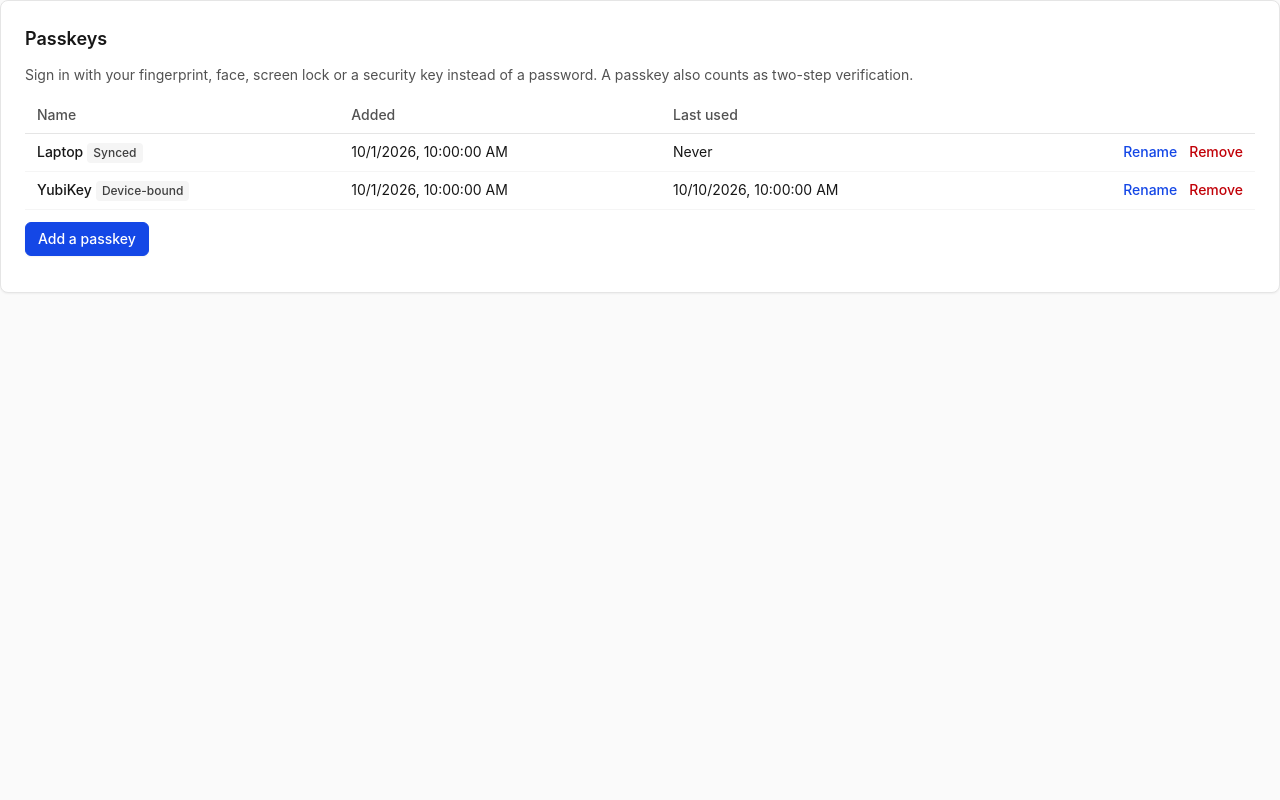
Scenario: PasskeysSection › adds a passkey: re-auth, then a create click with an optional name
The width and height of the screenshot is (1280, 800).
Click the button "Add a passkey". click: (87, 239)
box: top-left (25, 222), bottom-right (149, 256)
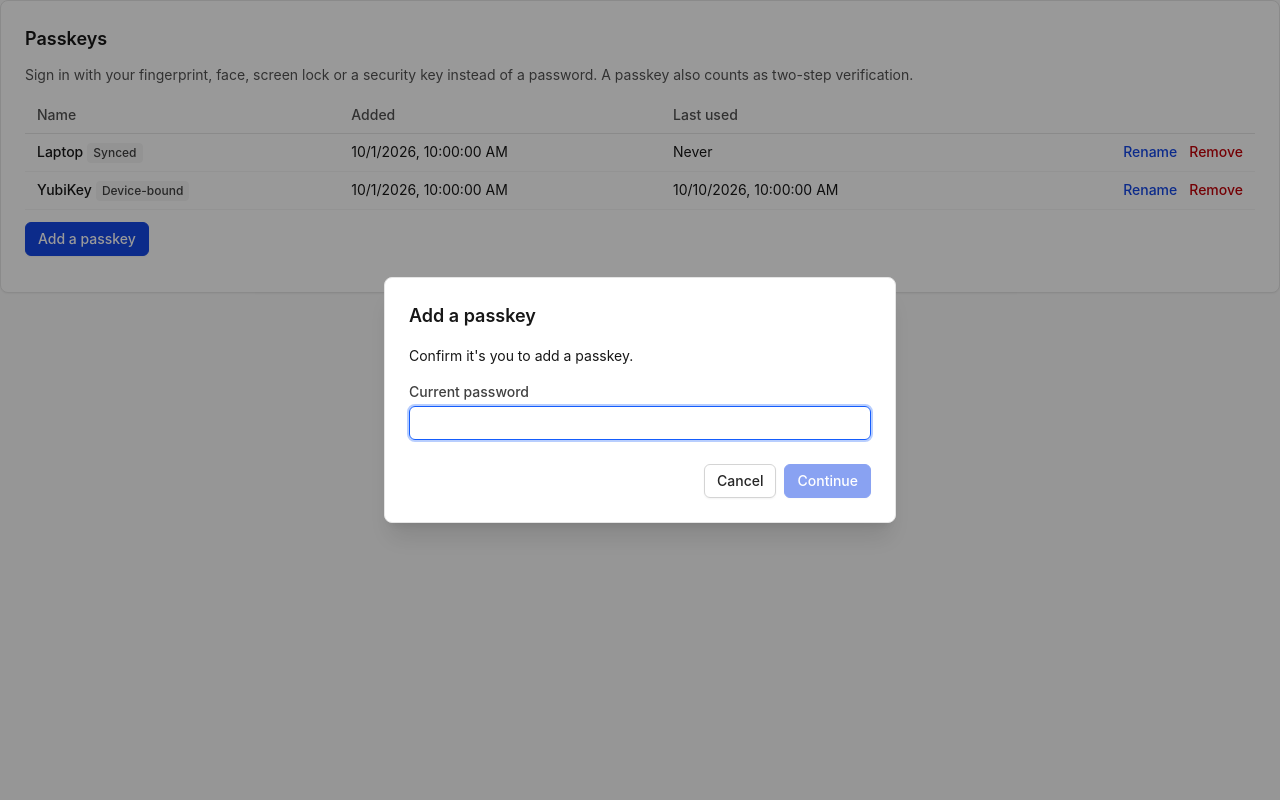
Type "pw" into the password field labelled "Current password". click: (640, 423)
box: top-left (409, 406), bottom-right (871, 440)
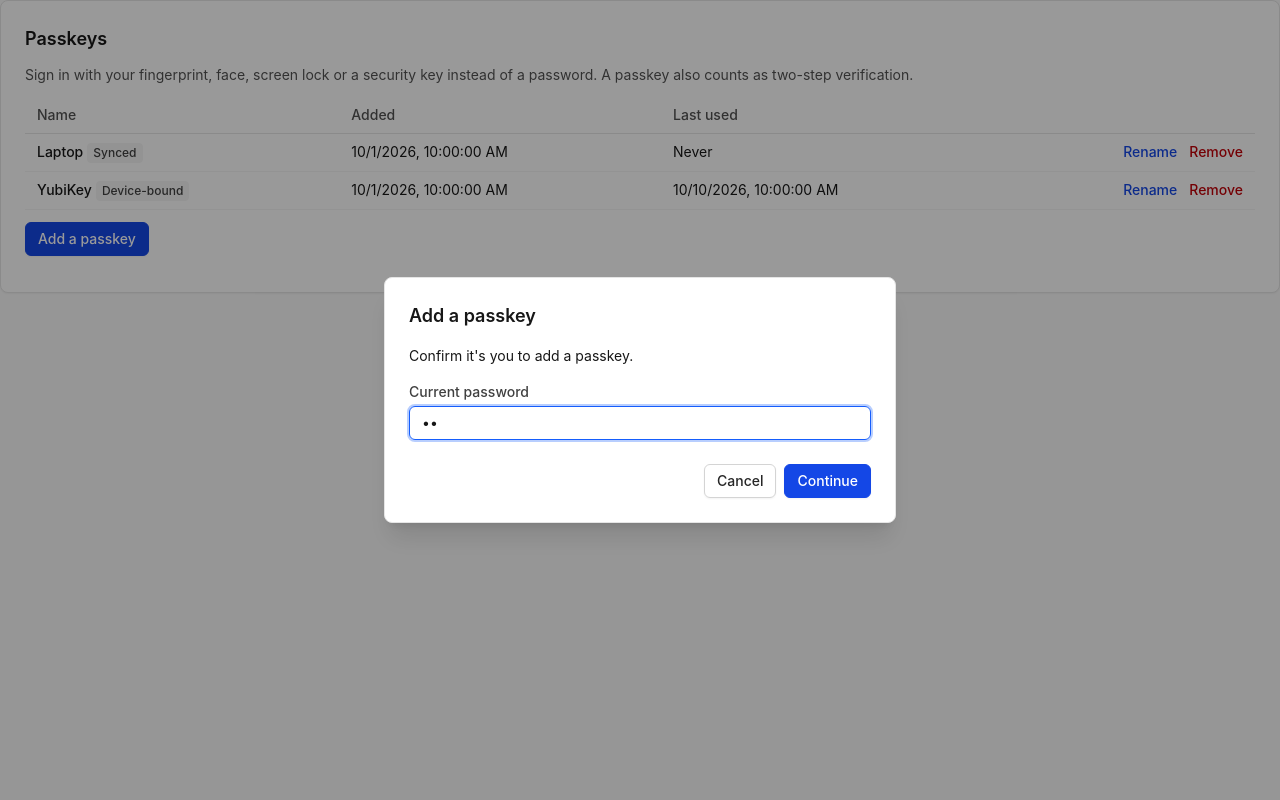
Submit the form with id "reauth-prompt", box top-left (409, 346), bottom-right (871, 440)
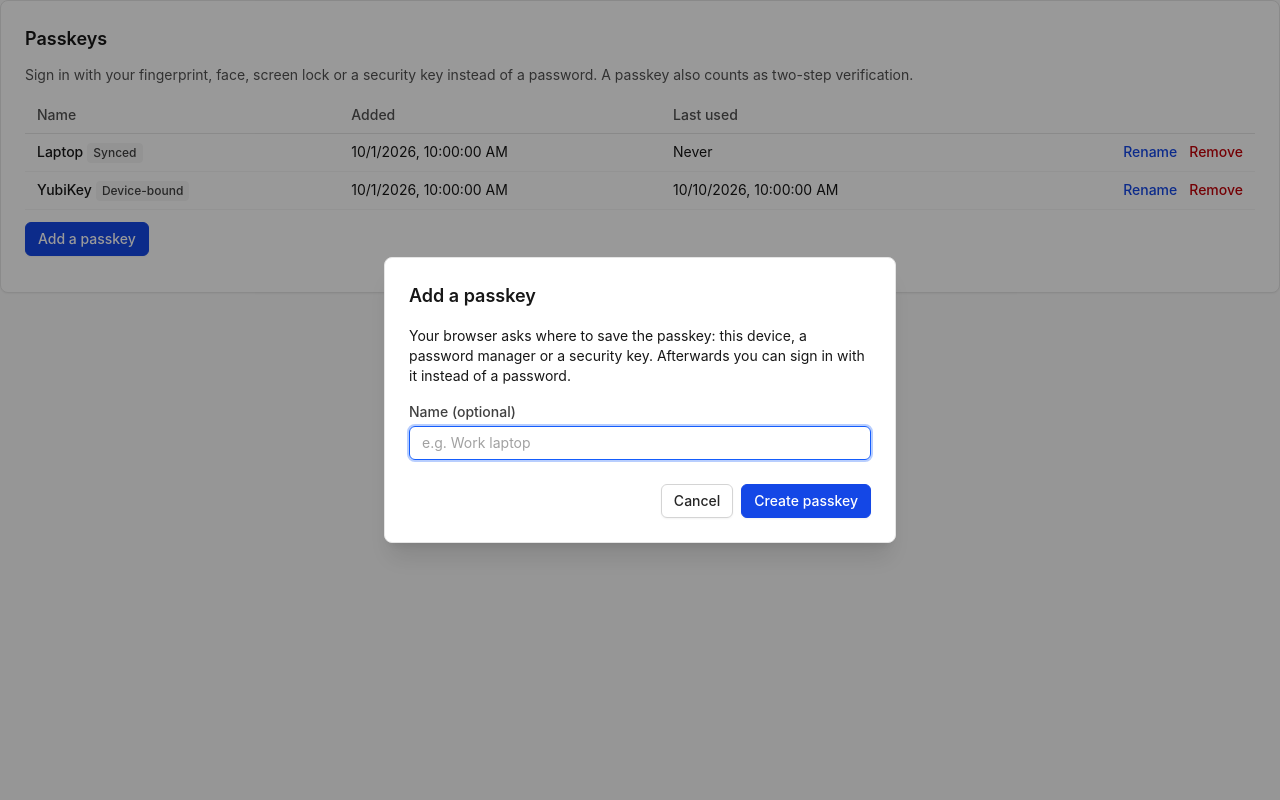
Type " Phone " into the field with id "ap-name". click: (640, 443)
box: top-left (409, 426), bottom-right (871, 460)
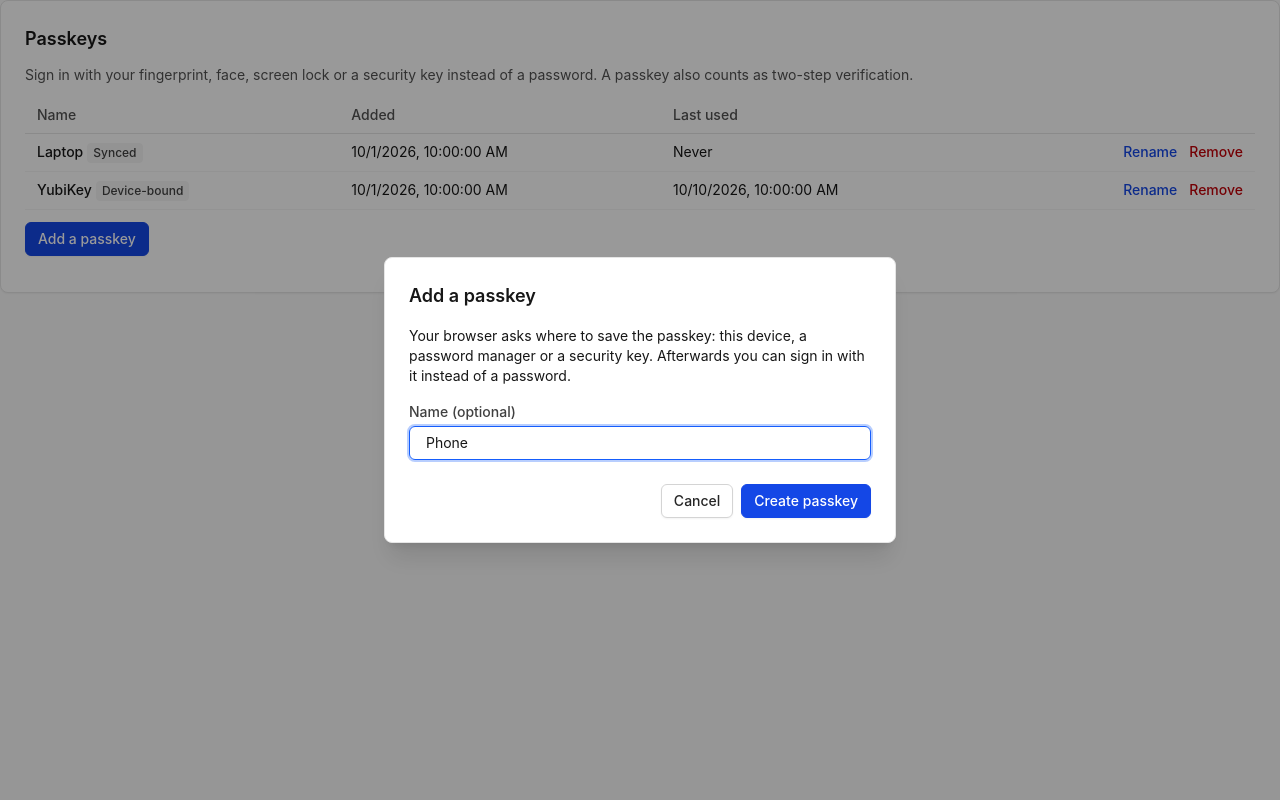
Submit the form with id "add-passkey", box top-left (409, 326), bottom-right (871, 460)
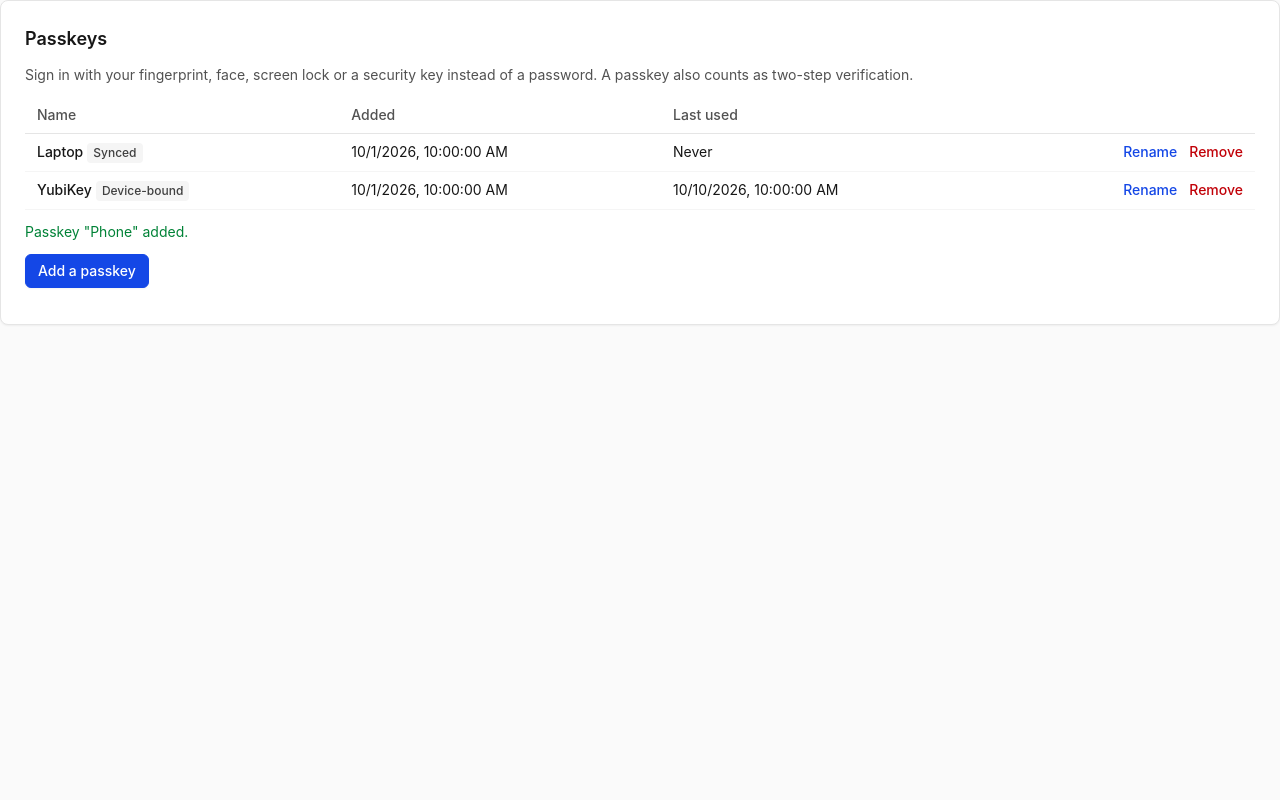
Expected: the message "Passkey \"Phone\" added." reads "Passkey \"Phone\" added.", top-left (25, 223), bottom-right (188, 240)
